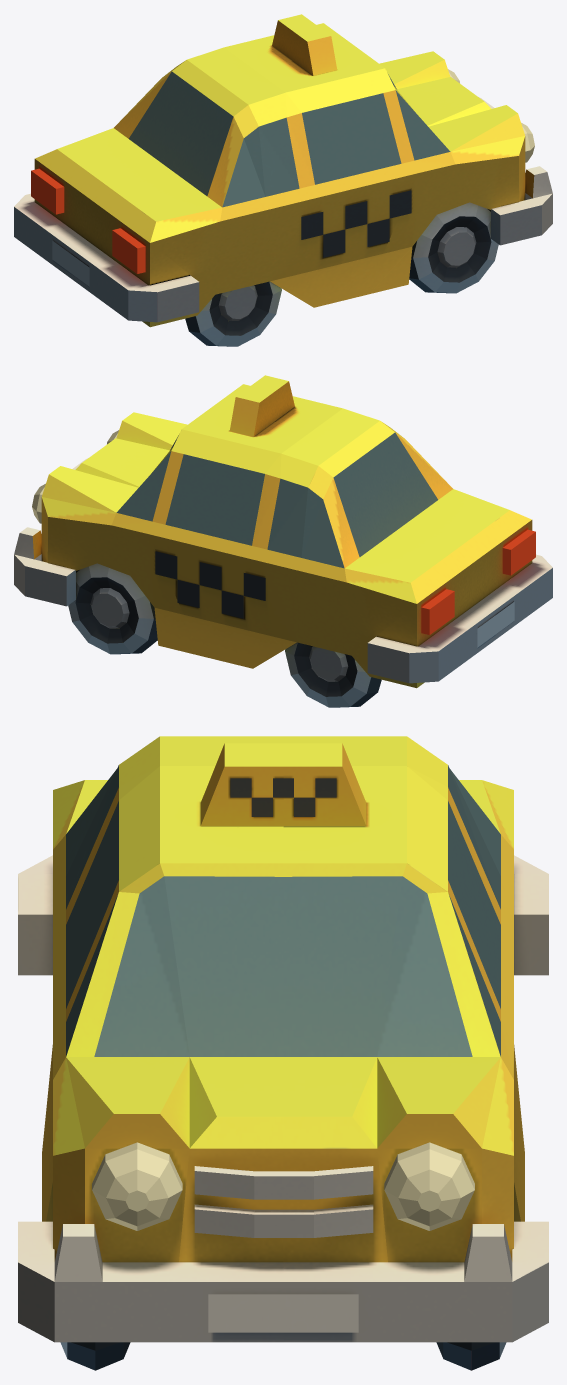
File: Taxi.glb
3 views of the same model, one above another, from view 1: azimuth 30°, elevation 25°; view 2: azimuth 150°, elevation 25°; view 3: azimuth 270°, elevation 25° (orthographic). The views are drawn at different scales.
Visible parts, largest first — view 1: PUSHILIN_Taxi_Cube.003; view 2: PUSHILIN_Taxi_Cube.003; view 3: PUSHILIN_Taxi_Cube.003.
Part boxes in pixels (x1,y1,x2,y2): PUSHILIN_Taxi_Cube.003: (14,14,552,346); PUSHILIN_Taxi_Cube.003: (14,375,552,707); PUSHILIN_Taxi_Cube.003: (18,736,548,1370).
Bounding box in the file's own units: 2.35 × 1.34 × 1.27.
Materials: 1 (1 with a texture image).
